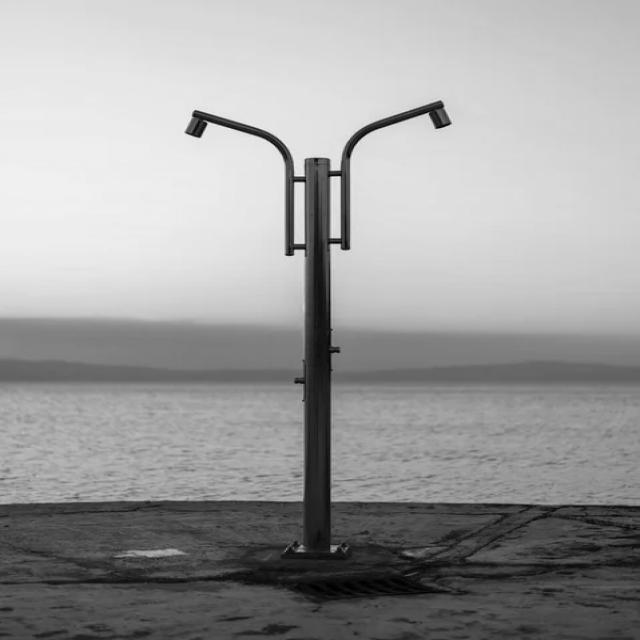Pole: (294, 158, 333, 556)
